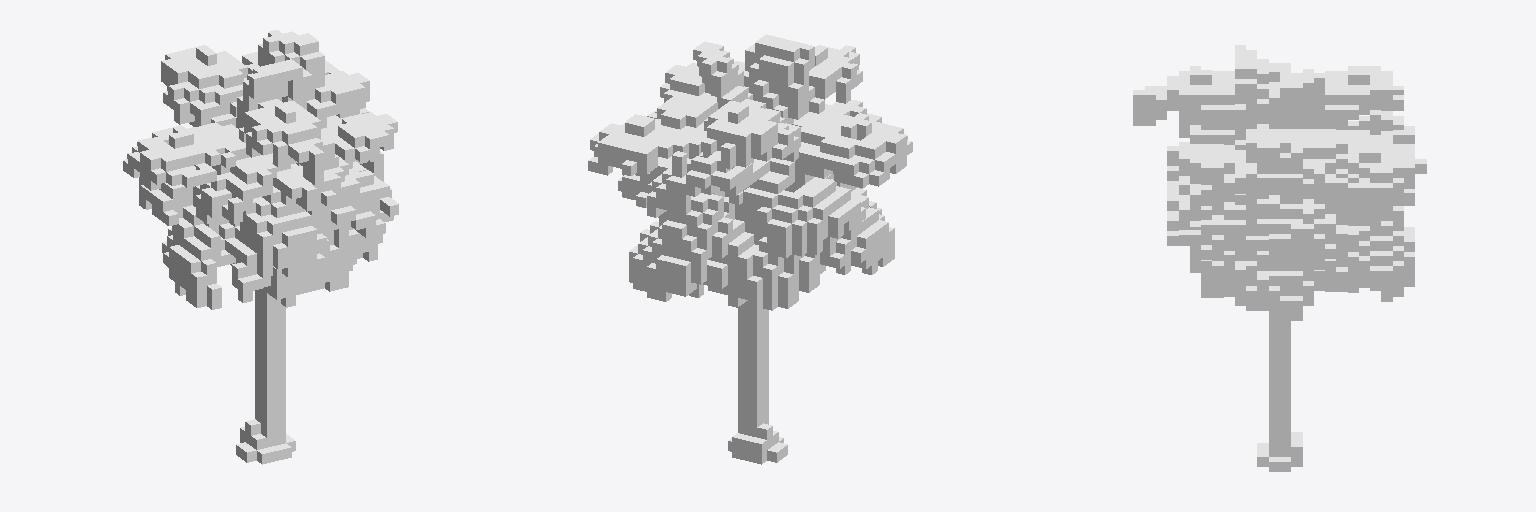
File: palm_tree_00.obj
3 renders of one model, left to right at view 1: azimuth 30°, elevation 25°; view 2: azimuth 150°, elevation 25°; view 3: azimuth 270°, elevation 25°, orthographic.
Bounding box in the file's own units: 25 × 39 × 26.